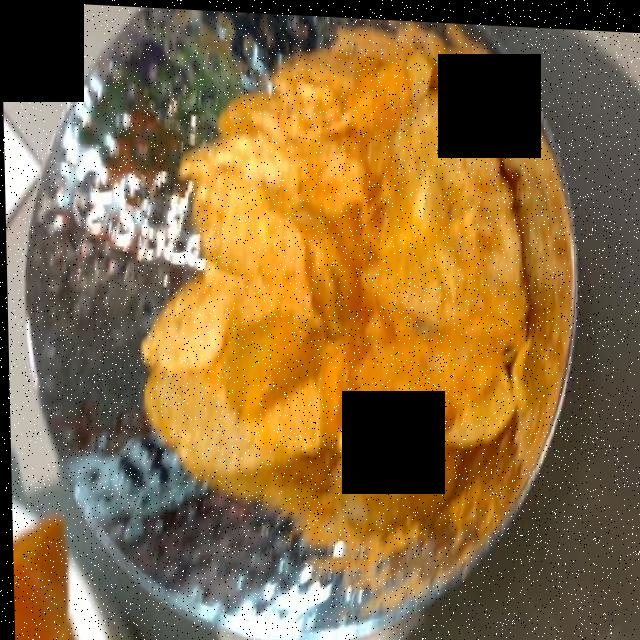crisps: (145, 30, 528, 562)
